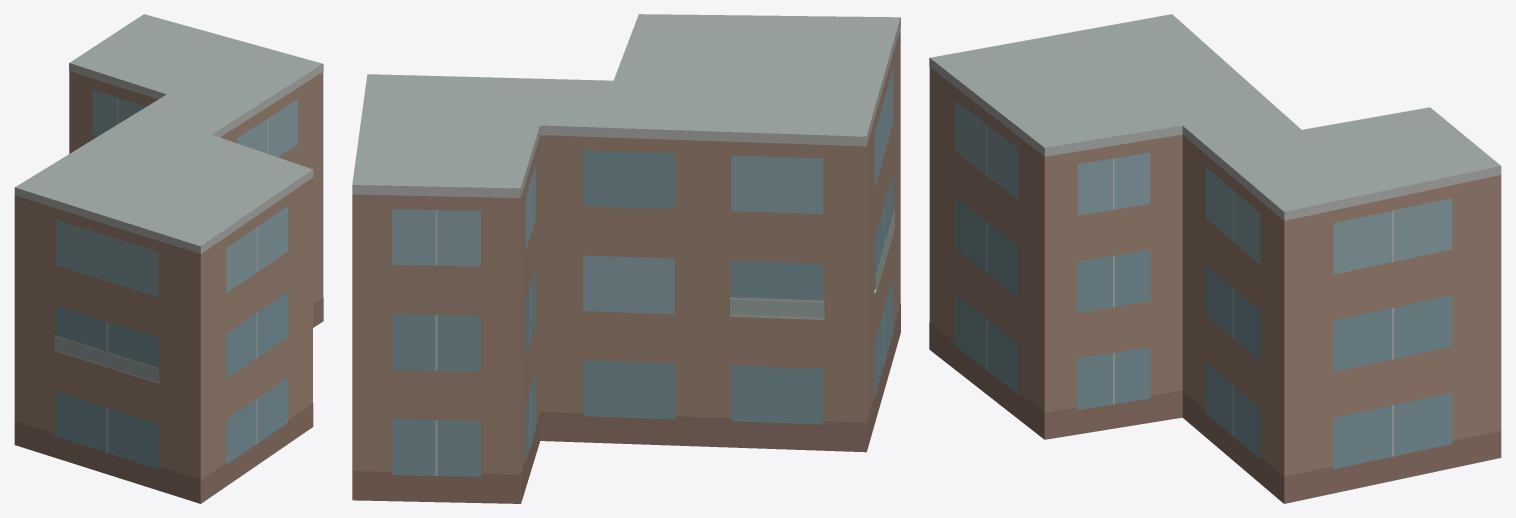
Rendered from survey-upis-32711470.glb.
The picture shows the model from 3 angles, left to right: view 1: azimuth 30°, elevation 25°; view 2: azimuth 150°, elevation 25°; view 3: azimuth 270°, elevation 25°; orthographic projection. The views are drawn at different scales.
Parts seen in each view (by area): view 1: survey-upis-32711470.tmp; view 2: survey-upis-32711470.tmp; view 3: survey-upis-32711470.tmp.
Boxes of the visible parts, box(x1,y1,x2,y2) form: survey-upis-32711470.tmp: box(14, 14, 323, 503); survey-upis-32711470.tmp: box(352, 14, 900, 503); survey-upis-32711470.tmp: box(929, 14, 1501, 503).
Bounding box in the file's own units: 11.66 × 8 × 14.22.
